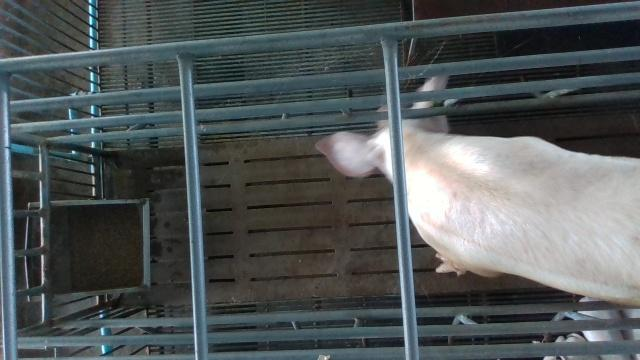piglet: (578, 297, 633, 360)
sow-stand: (317, 75, 640, 307)
